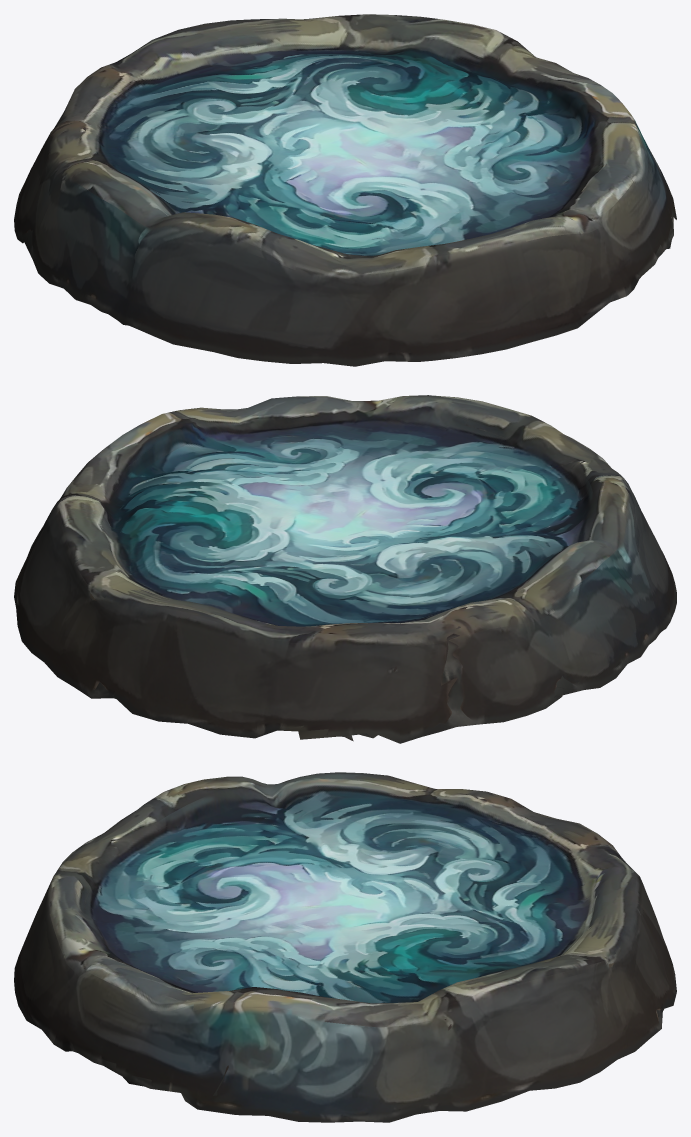
File: fog2.glb
3 renders of one model, top to bottom at view 1: azimuth 30°, elevation 25°; view 2: azimuth 150°, elevation 25°; view 3: azimuth 270°, elevation 25°, orthographic.
Parts seen in each view (by area): view 1: tmpqgmqlvgc; view 2: tmpqgmqlvgc; view 3: tmpqgmqlvgc.
Boxes of the visible parts, x1,y1,x2,y2 form: tmpqgmqlvgc: (14, 14, 676, 366); tmpqgmqlvgc: (14, 395, 676, 743); tmpqgmqlvgc: (14, 772, 676, 1122).
Bounding box in the file's own units: 0.8203 × 0.15 × 0.8337.
1 material, 1 textured.
